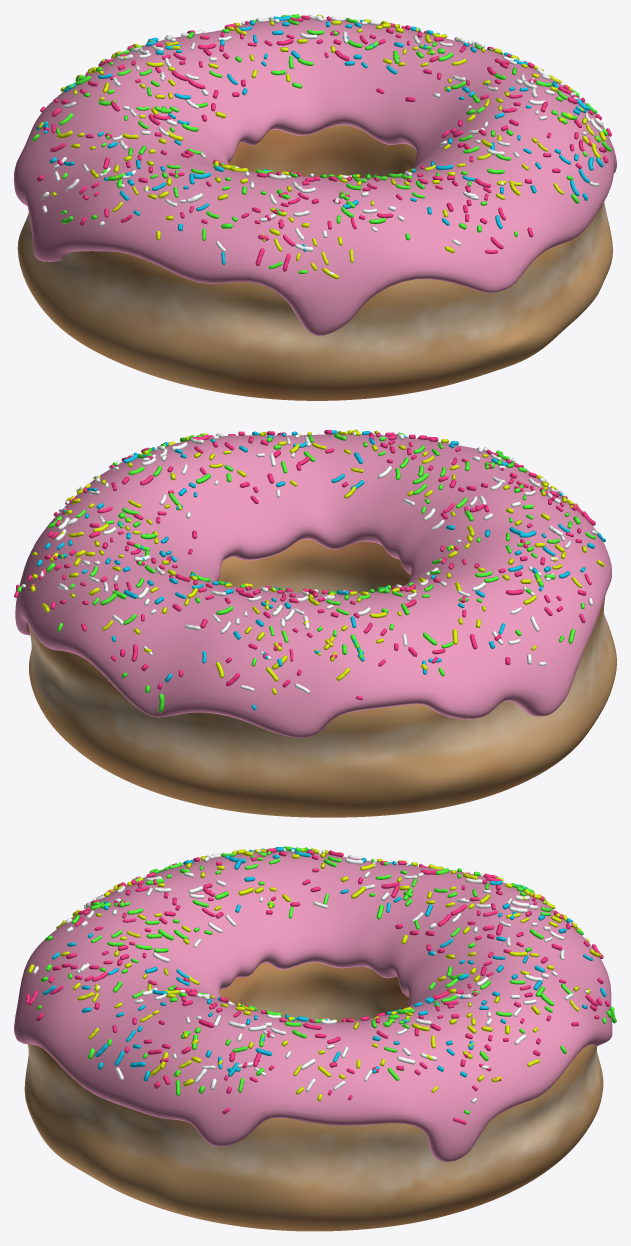
File: donut.glb
3 renders of one model, top to bottom at view 1: azimuth 30°, elevation 25°; view 2: azimuth 150°, elevation 25°; view 3: azimuth 270°, elevation 25°, orthographic.
Parts seen in each view (by area): view 1: Icing, Donut, Sprinkles; view 2: Icing, Donut, Sprinkles; view 3: Icing, Donut, Sprinkles.
Part boxes in pixels (<box>): Icing: <box>14,19,616,335</box>; Donut: <box>17,125,612,400</box>; Sprinkles: <box>32,14,611,279</box>; Icing: <box>15,434,611,737</box>; Donut: <box>28,539,616,817</box>; Sprinkles: <box>14,429,605,712</box>; Icing: <box>14,851,612,1162</box>; Donut: <box>24,962,603,1231</box>; Sprinkles: <box>25,846,616,1124</box>.
Size of the model in its own units: 0.2256 by 0.085 by 0.2302.
Materials: 3 (2 with a texture image).
